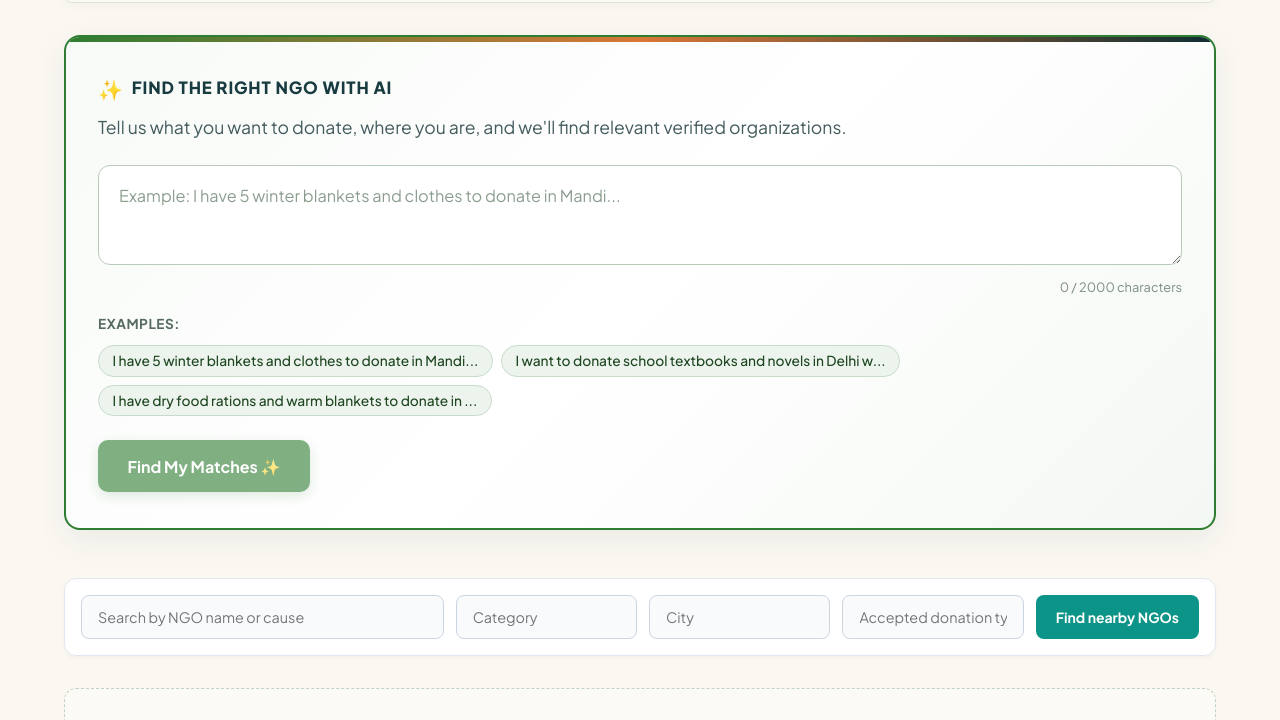
Feature 2: AI Recommendations on /ngos Page › clicking an example chip populates the textarea and enables "Find My Matches ✨"
(page scrolled)
What coordinates should you click on to do the following:
click the button "I have 5 winter blankets and clothes to donate in Mandi..."
I would click on:
 (296, 361)
Its box is [98,345,493,377].
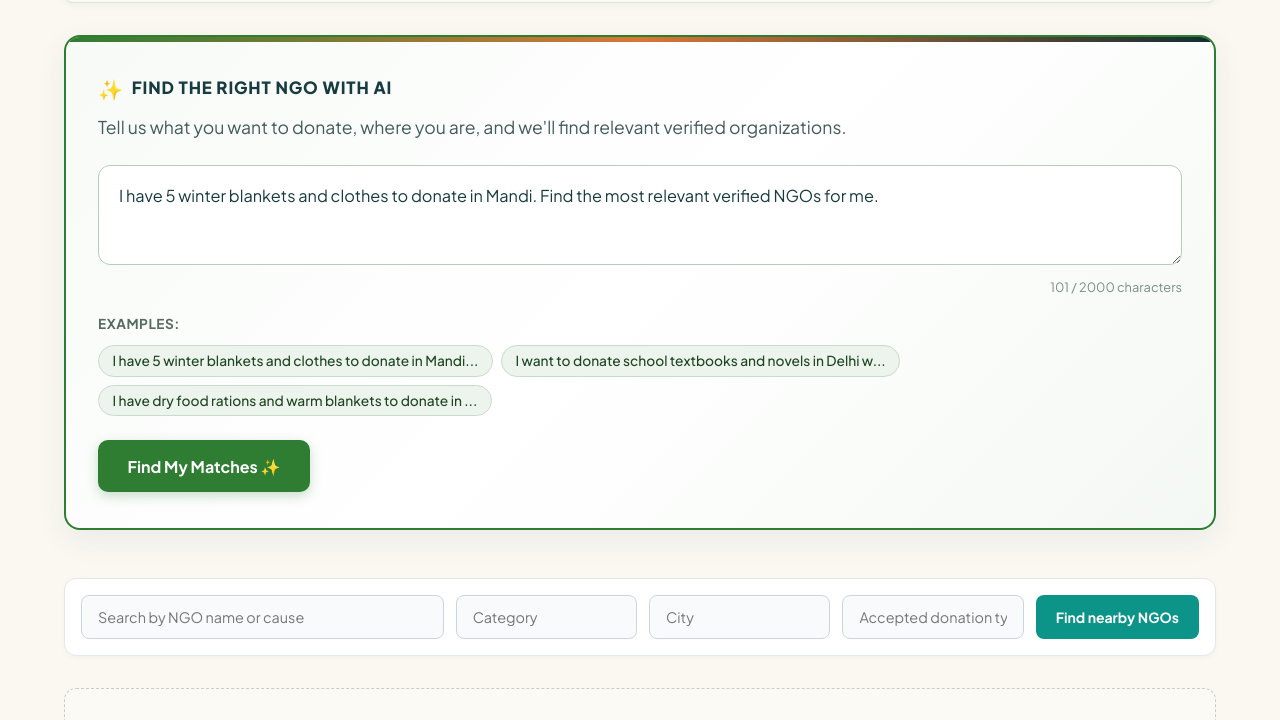
Result: the button "Find My Matches ✨" is enabled at [98,440,310,492]
